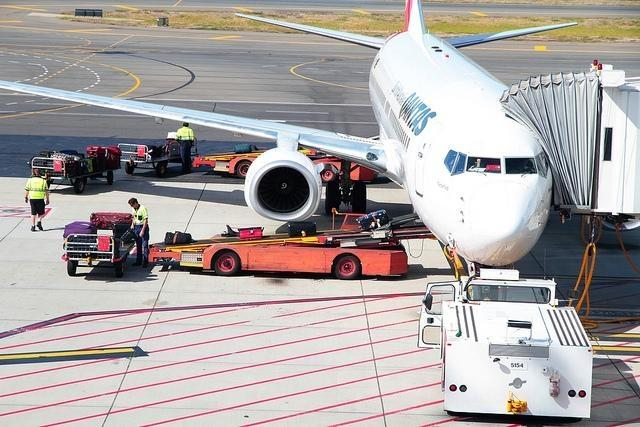truck: (418, 263, 592, 421), (148, 210, 410, 283), (192, 144, 379, 184), (28, 144, 126, 192)
